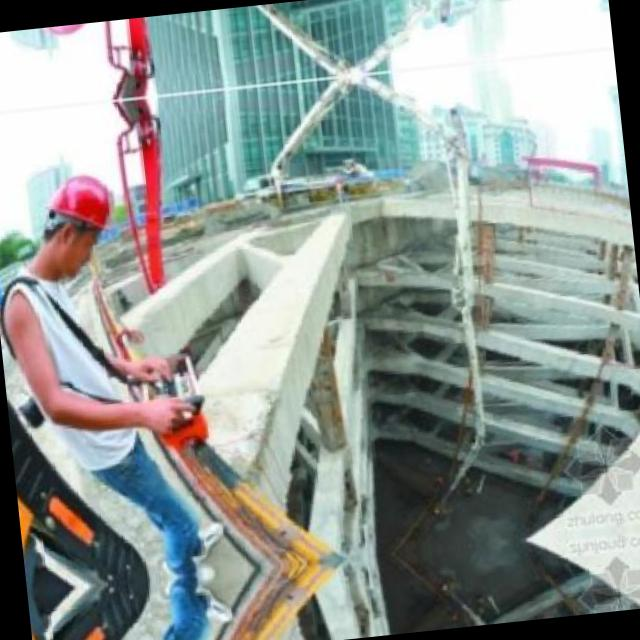helmet: (31, 155, 128, 276), (15, 21, 106, 56)
